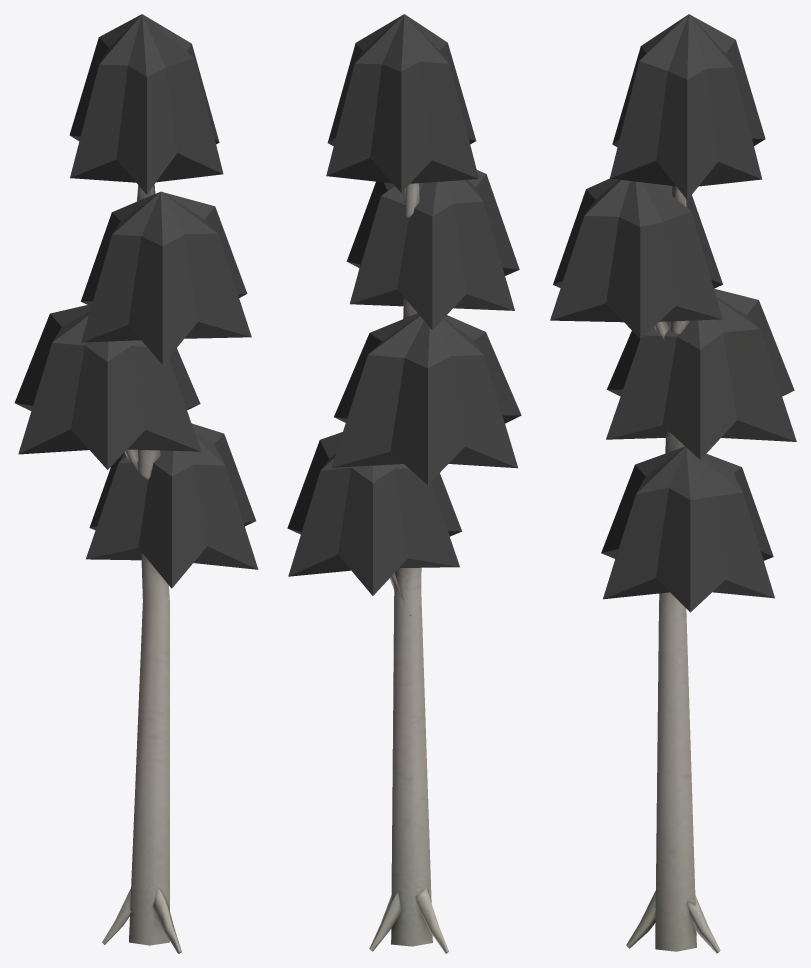
The model's file is arv_betula_1.glb.
The picture shows the model from 3 angles, left to right: view 1: azimuth 30°, elevation 25°; view 2: azimuth 150°, elevation 25°; view 3: azimuth 270°, elevation 25°; orthographic projection.
Parts seen in each view (by area): view 1: arv_betula_1_corpo; view 2: arv_betula_1_corpo; view 3: arv_betula_1_corpo.
Boxes of the visible parts, <box> form: arv_betula_1_corpo: <box>14,14,258,953</box>; arv_betula_1_corpo: <box>287,14,521,953</box>; arv_betula_1_corpo: <box>550,14,796,953</box>.
Bounding box in the file's own units: 0.6982 × 2.63 × 0.6329.
Materials: 1 (1 with a texture image).
